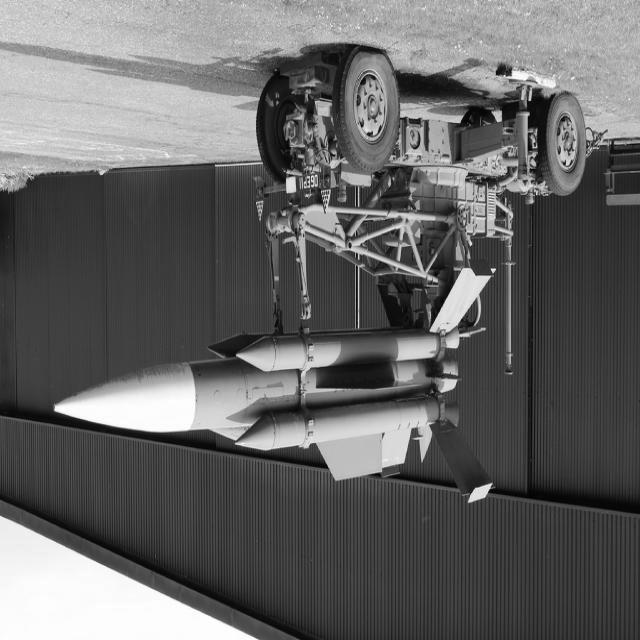missile: (46, 362, 228, 438), (238, 396, 438, 452), (231, 328, 443, 374)
